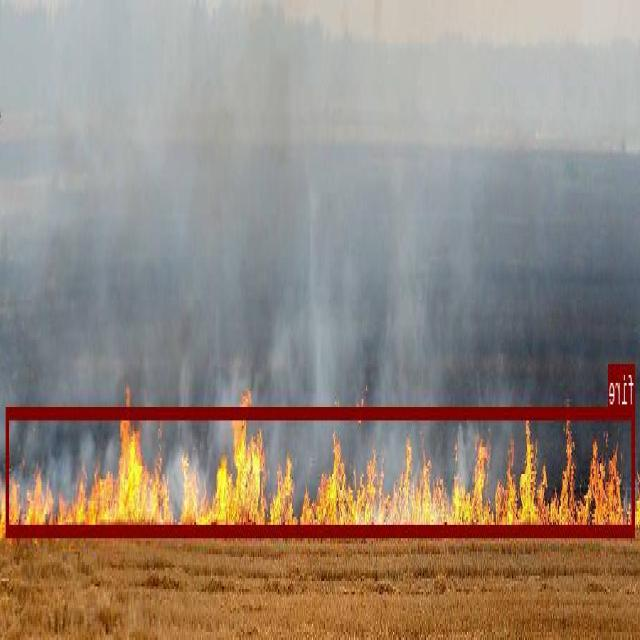fire: (7, 406, 636, 533)
